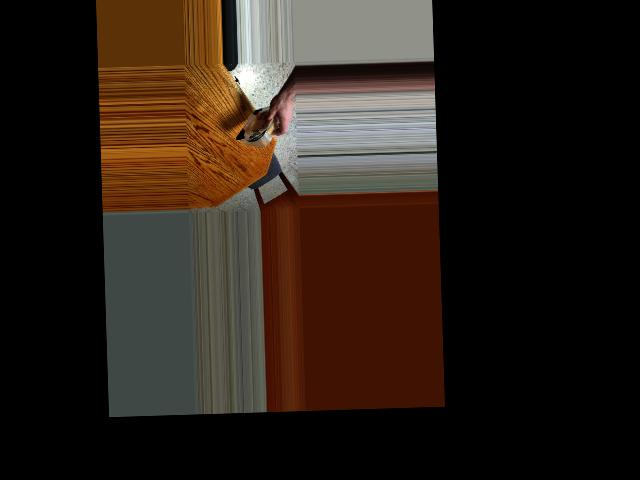cheese: (237, 93, 277, 152)
